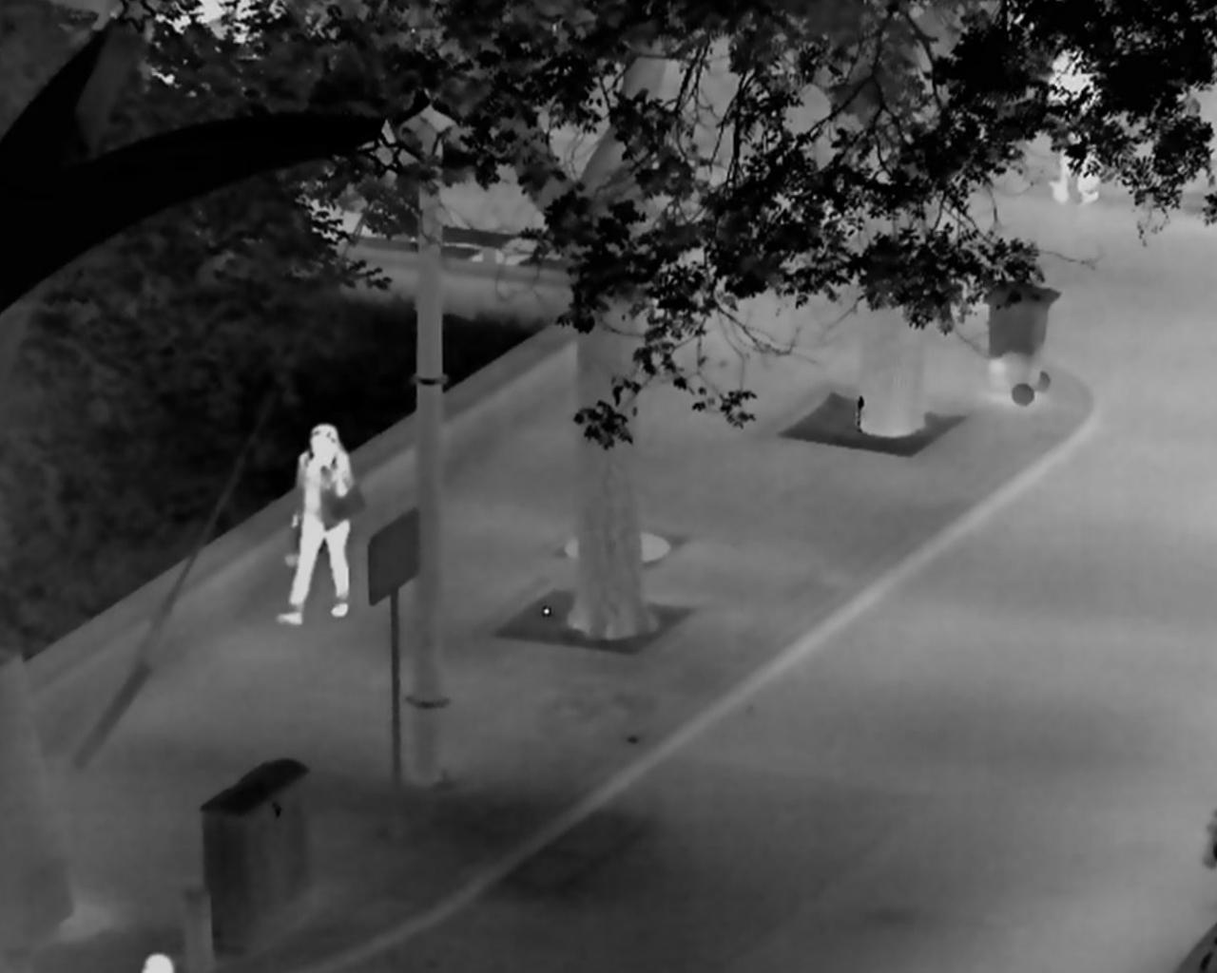person: (276, 421, 353, 624), (1047, 39, 1104, 206)
